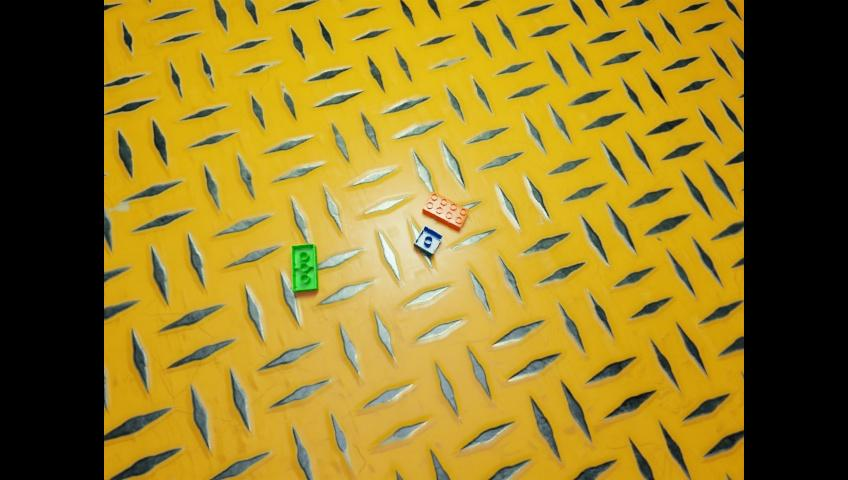2x2_blue: (414, 225, 443, 256)
4x2_green: (292, 244, 318, 292)
4x2_orange: (423, 191, 469, 231)
